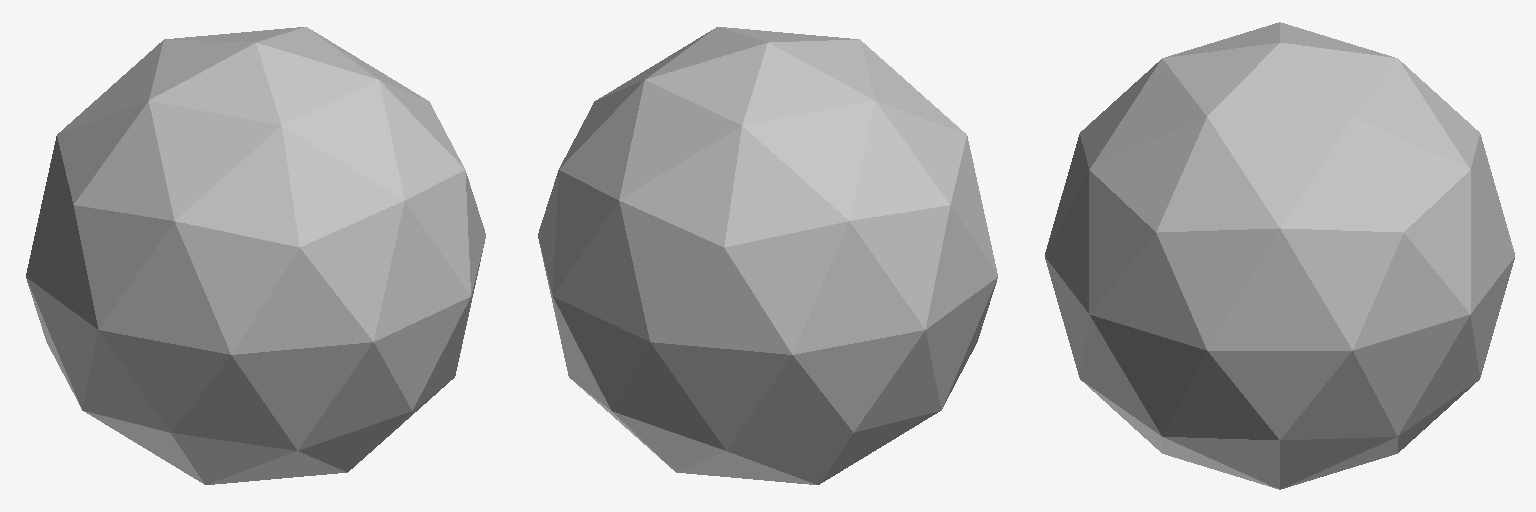
The picture shows the model from 3 angles: view 1: azimuth 30°, elevation 25°; view 2: azimuth 150°, elevation 25°; view 3: azimuth 270°, elevation 25°; orthographic projection.
Parts seen in each view (by area): view 1: ICO球; view 2: ICO球; view 3: ICO球.
Part boxes in pixels (bbox=[...]): ICO球: bbox=[26, 27, 485, 484]; ICO球: bbox=[538, 27, 997, 484]; ICO球: bbox=[1045, 22, 1514, 489].
Bounding box in the file's own units: 1.9 × 2 × 2.
Materials: 1 (1 with a texture image).